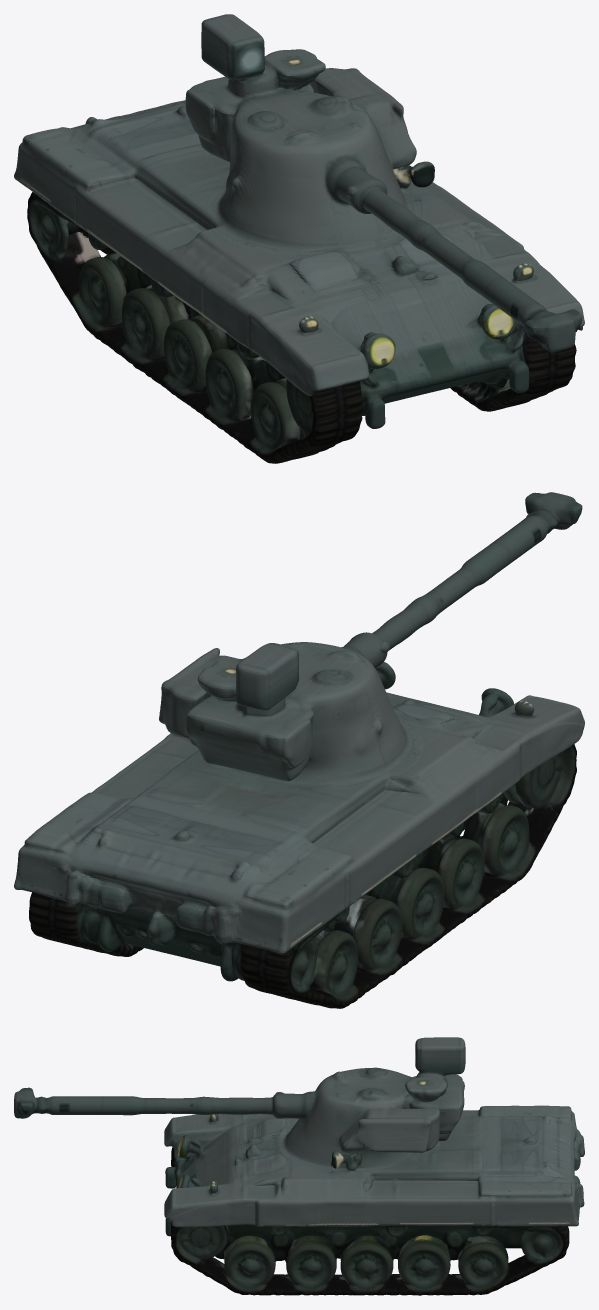
The picture shows the model from 3 angles, top to bottom: view 1: azimuth 30°, elevation 25°; view 2: azimuth 150°, elevation 25°; view 3: azimuth 270°, elevation 25°; orthographic projection. The views are drawn at different scales.
Parts seen in each view (by area): view 1: tripo_node_e45f615e-1c92-44ff-9581-bd3c316e645b; view 2: tripo_node_e45f615e-1c92-44ff-9581-bd3c316e645b; view 3: tripo_node_e45f615e-1c92-44ff-9581-bd3c316e645b.
Part boxes in pixels (bbox=[...]): tripo_node_e45f615e-1c92-44ff-9581-bd3c316e645b: bbox=[14, 14, 584, 463]; tripo_node_e45f615e-1c92-44ff-9581-bd3c316e645b: bbox=[14, 492, 584, 1008]; tripo_node_e45f615e-1c92-44ff-9581-bd3c316e645b: bbox=[14, 1037, 584, 1295].
Size of the model in its own units: 0.3614 by 0.3757 by 0.9399.
1 material, 1 textured.
